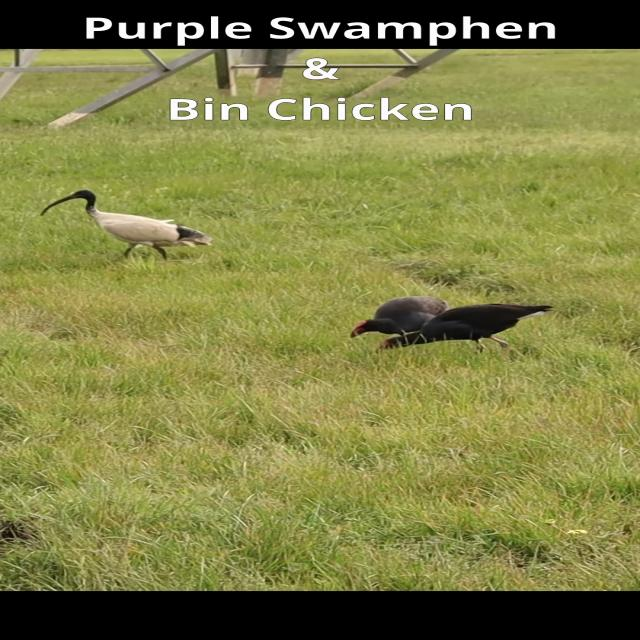Birds-Ibis: (38, 188, 215, 266)
Birds-Other: (374, 302, 556, 354), (348, 294, 448, 338)
